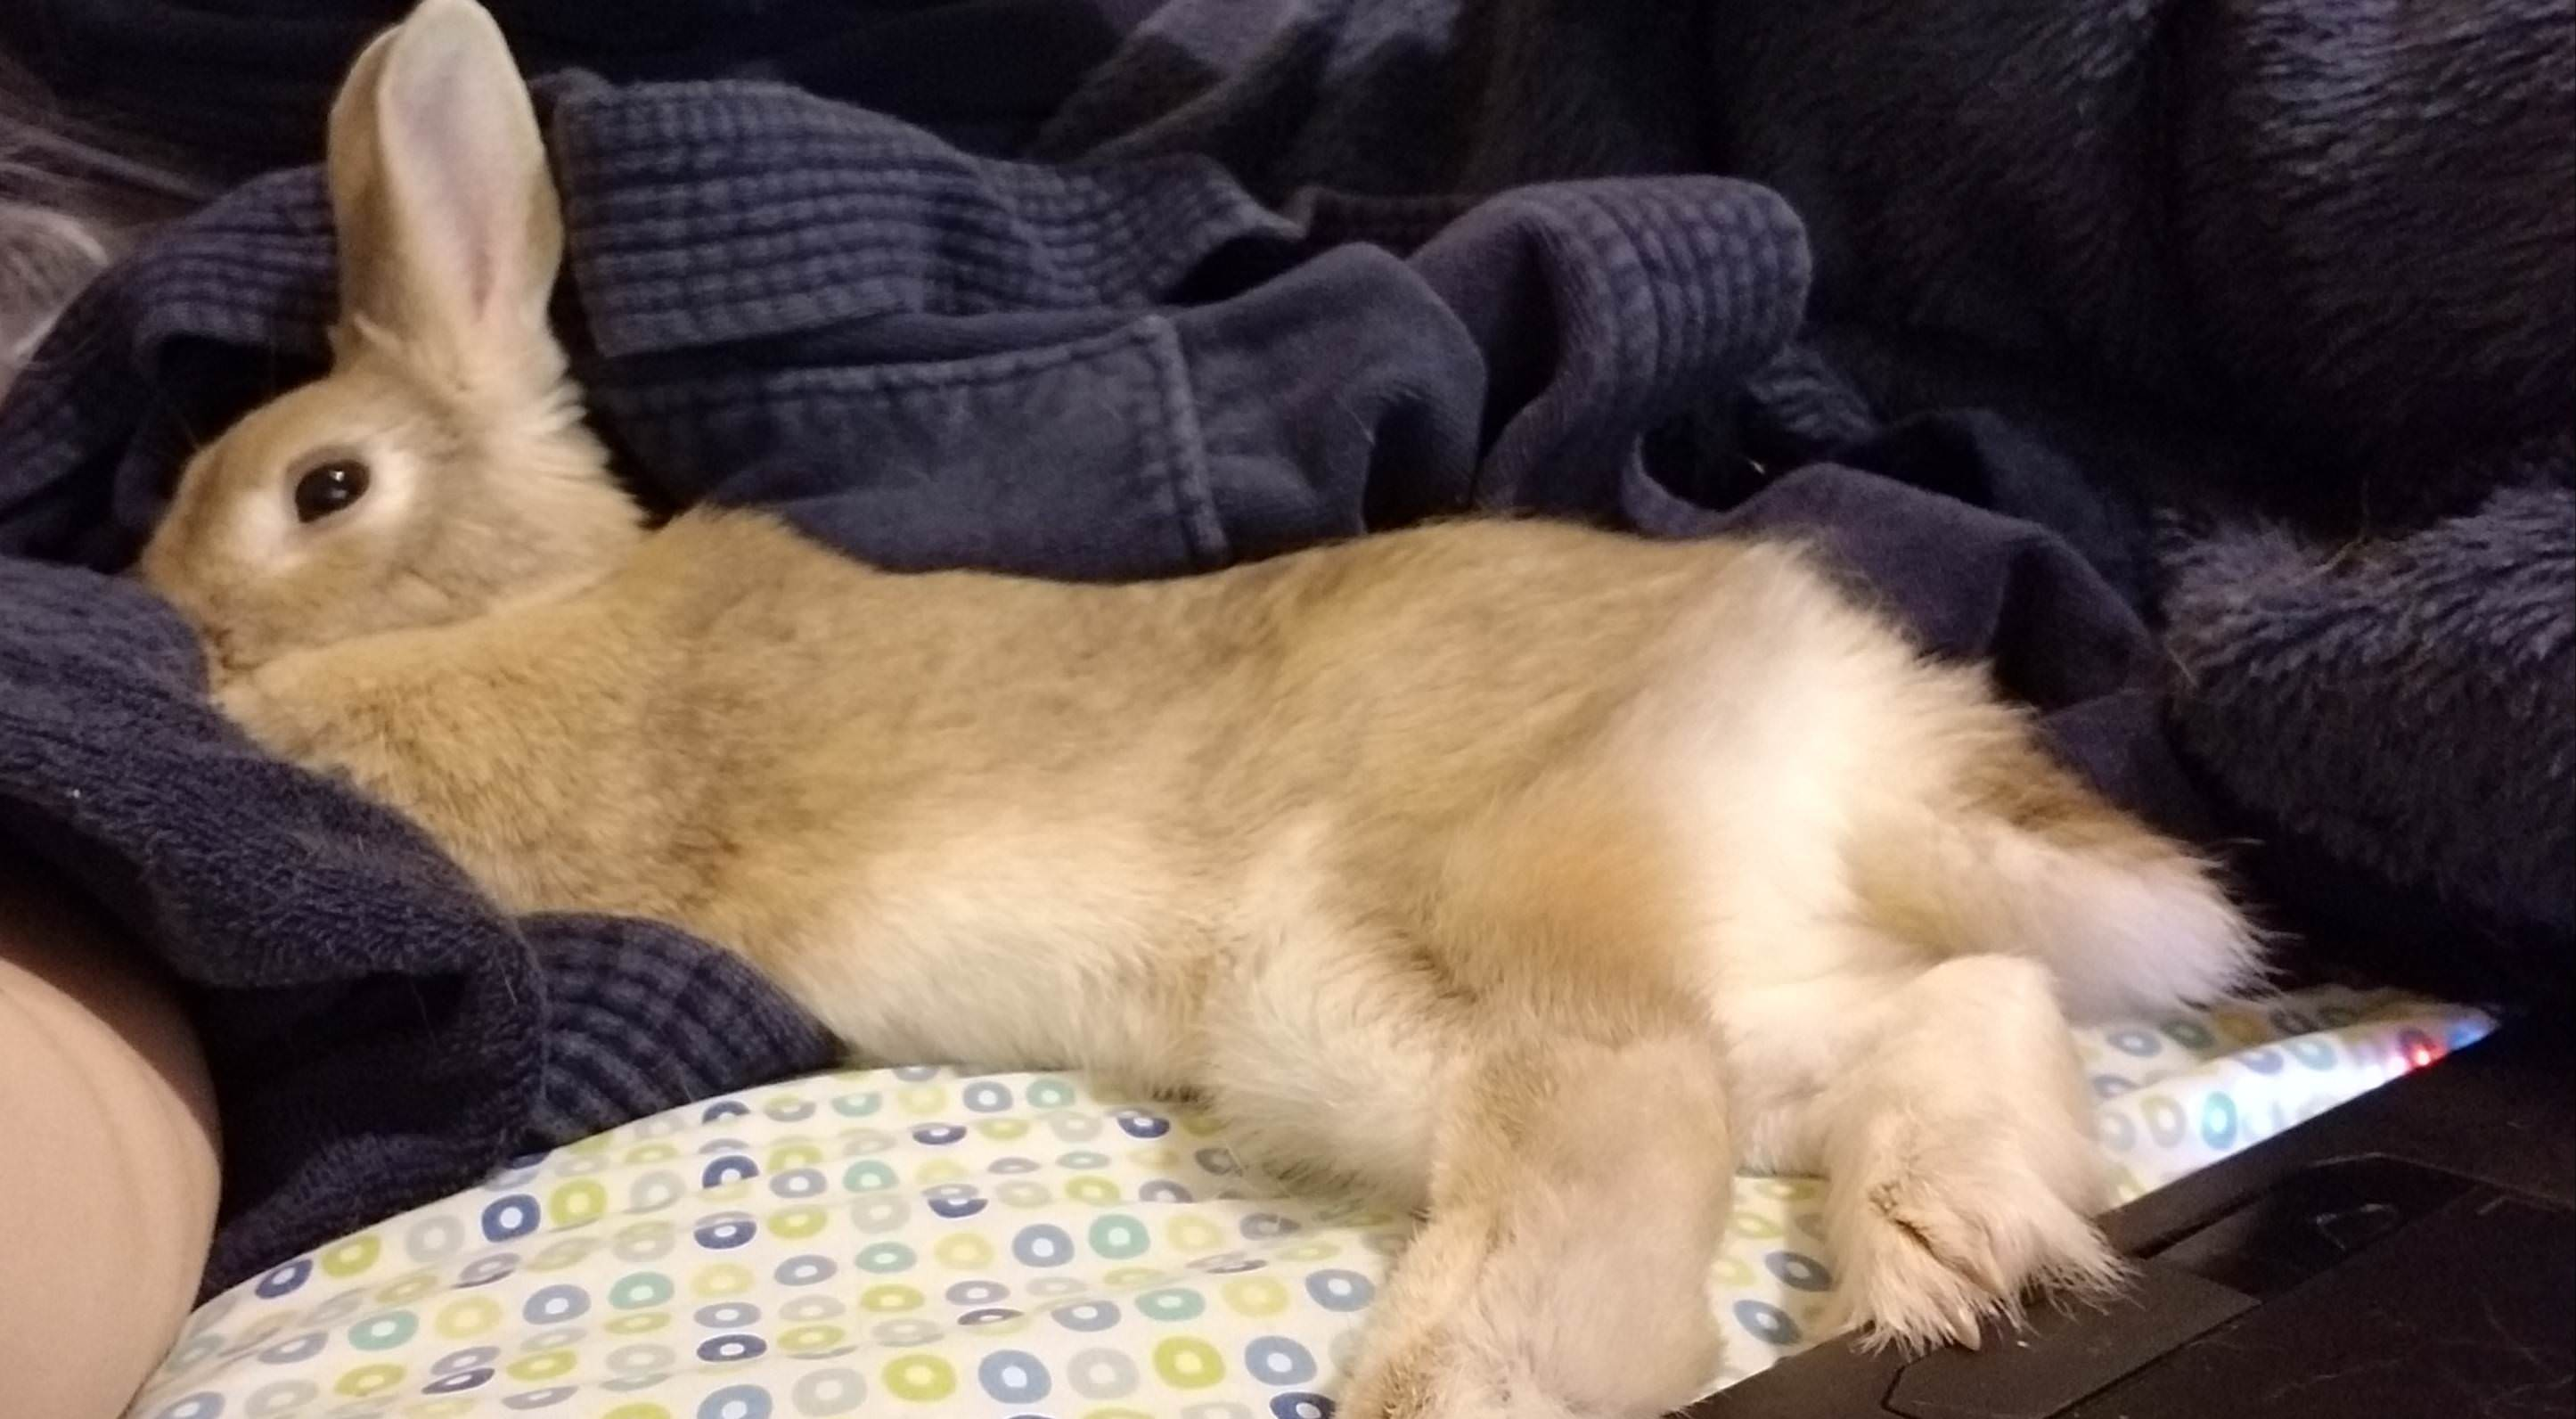bunny: (114, 2, 2291, 1419)
